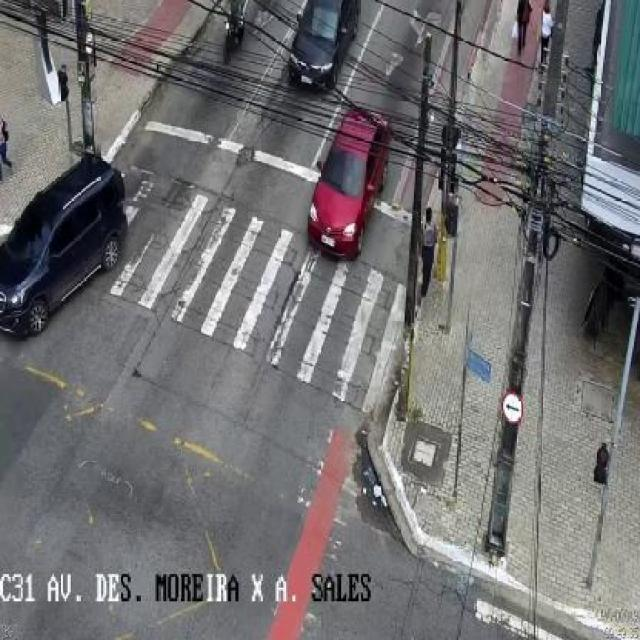Car: (293, 92, 400, 259), (268, 0, 365, 98)
Cycle: (202, 0, 259, 74)
Van: (1, 150, 132, 346)
